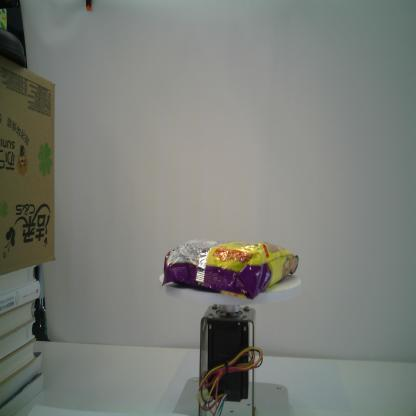Instant Noodles: (160, 239, 300, 300)
